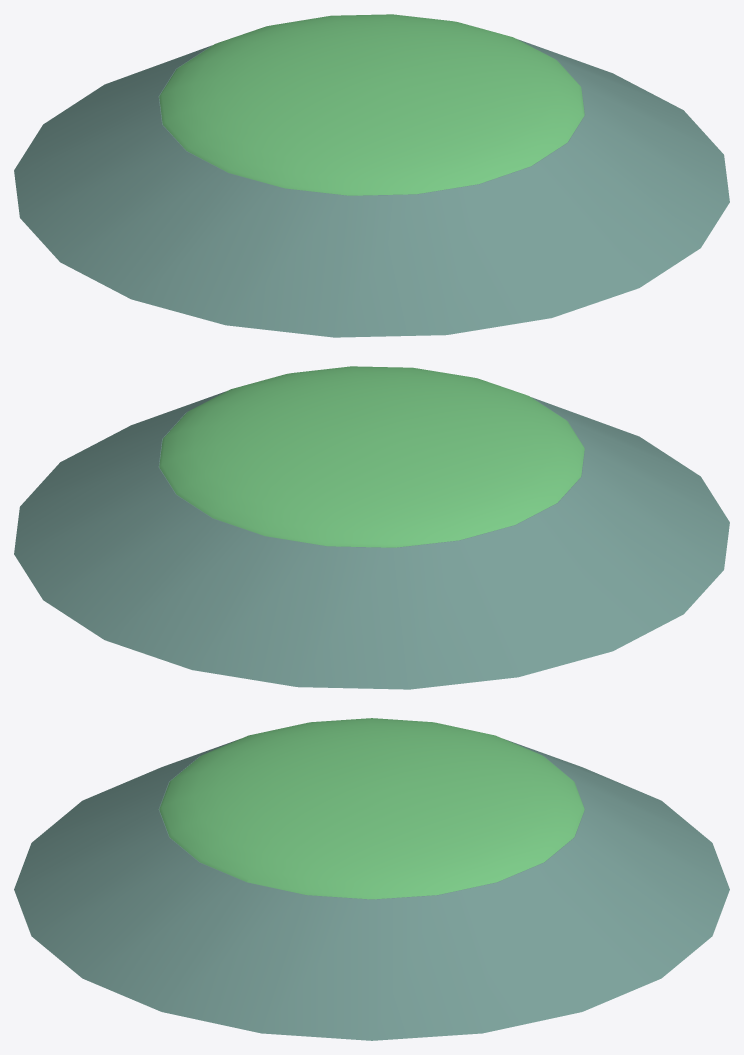
Rendered from enter.fbx.
3 views of the same model, one above another, from view 1: azimuth 30°, elevation 25°; view 2: azimuth 150°, elevation 25°; view 3: azimuth 270°, elevation 25° (orthographic).
Parts seen in each view (by area): view 1: pCylinder2; view 2: pCylinder2; view 3: pCylinder2.
Part boxes in pixels (box(x1,y1,x2,y2)): pCylinder2: box(14, 14, 729, 337); pCylinder2: box(14, 366, 729, 689); pCylinder2: box(14, 718, 729, 1040).
Bounding box in the file's own units: 0.0206 × 0.00353 × 0.0206.
